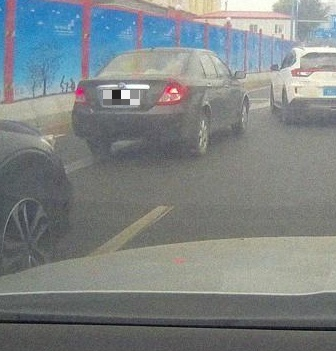L_light: (74, 88, 91, 106)
R_light: (156, 80, 187, 105)
T_light: (137, 52, 155, 55)
day-right: (71, 46, 196, 156)
plate_1: (103, 90, 140, 105)
